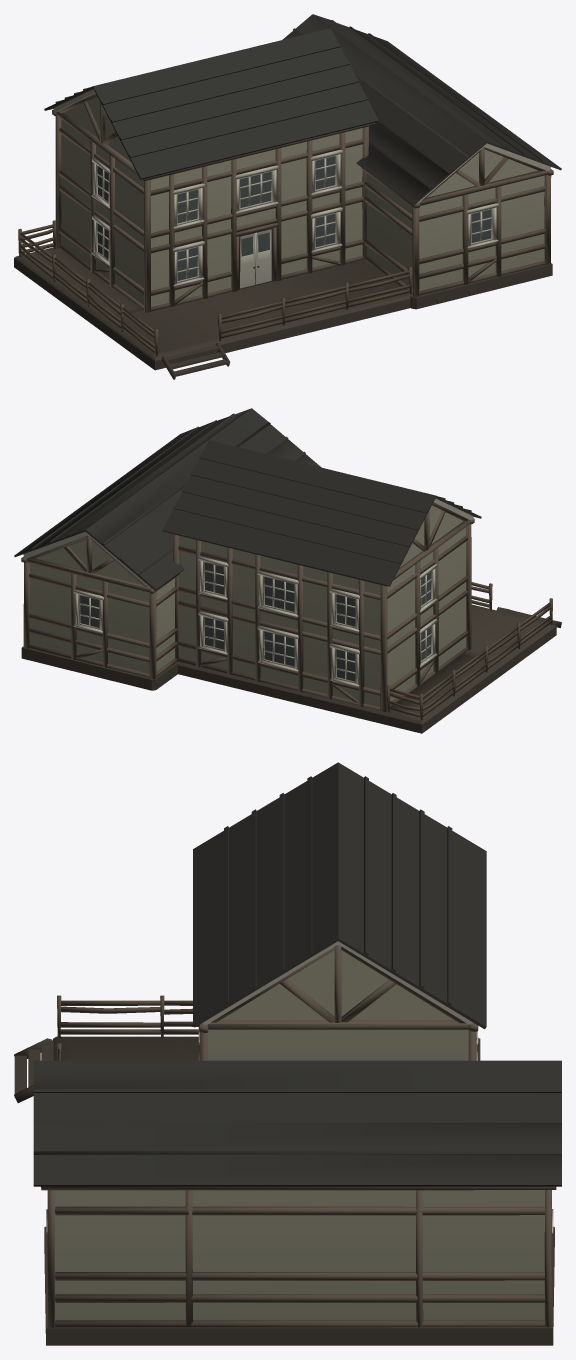
The model's file is farm_house_3.glb.
The picture shows the model from 3 angles, top to bottom: view 1: azimuth 30°, elevation 25°; view 2: azimuth 150°, elevation 25°; view 3: azimuth 270°, elevation 25°; orthographic projection. The views are drawn at different scales.
Parts seen in each view (by area): view 1: farm_house_3; view 2: farm_house_3; view 3: farm_house_3.
Part boxes in pixels (<box>): farm_house_3: <box>14,14,561,379</box>; farm_house_3: <box>14,408,561,733</box>; farm_house_3: <box>14,762,561,1345</box>.
Bounding box in the file's own units: 18.46 × 9.25 × 14.42.
1 material, 1 textured.
